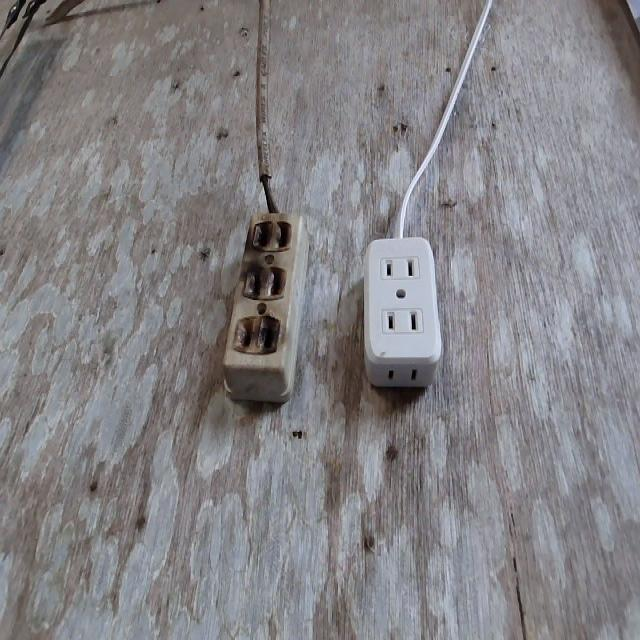-: (226, 217, 292, 359)
